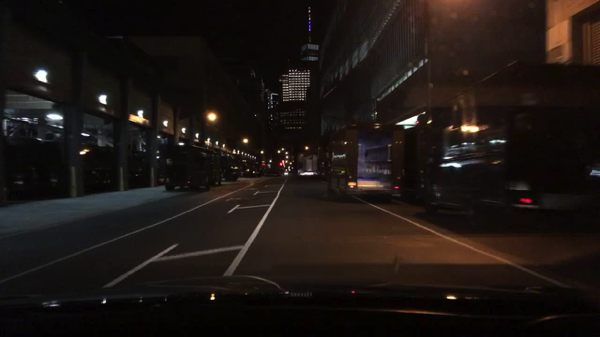truck: (419, 61, 598, 230), (324, 123, 405, 201), (157, 142, 223, 192), (0, 135, 47, 201), (404, 126, 433, 200), (79, 143, 115, 192), (44, 139, 71, 196), (125, 147, 148, 188), (297, 153, 318, 178), (221, 156, 239, 181), (265, 162, 284, 176), (241, 160, 257, 176), (258, 163, 268, 175)
